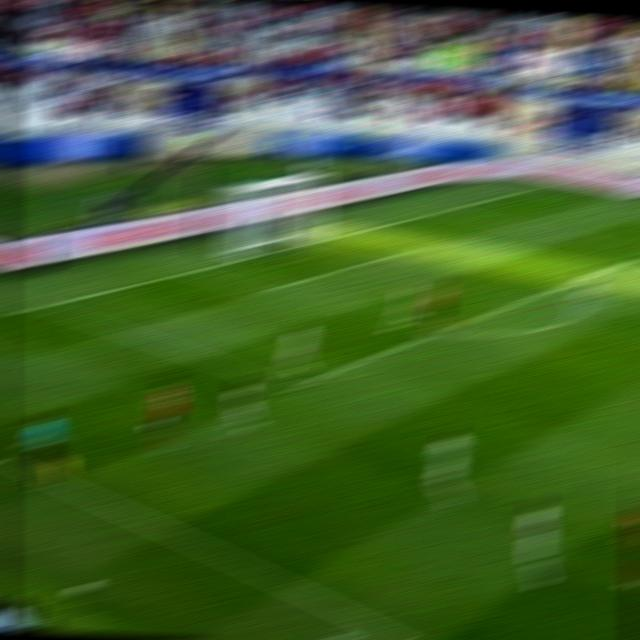bigarea_bottom_inner: (274, 378, 310, 398)
bigarea_bottom_outter: (31, 296, 61, 315)
bigarea_top_inner: (634, 248, 640, 257)
bigarea_top_outter: (433, 204, 459, 217)
bottom_arc_area_intersection: (422, 325, 456, 339)
corner: (522, 186, 541, 190)
smallarea_bottom_inner: (245, 285, 274, 300)
smallarea_bottom_outter: (177, 264, 207, 279)
smallarea_top_inner: (408, 238, 439, 253)
smallarea_top_outter: (349, 223, 378, 237)
top_arc_area_intersection: (555, 280, 575, 291)
